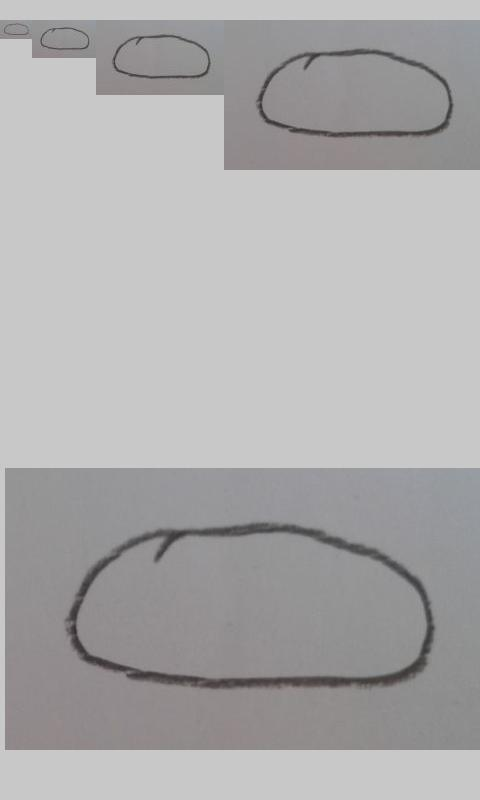chip: (67, 519, 440, 691), (257, 48, 453, 138), (112, 34, 211, 80), (39, 27, 90, 50), (4, 23, 30, 36)
